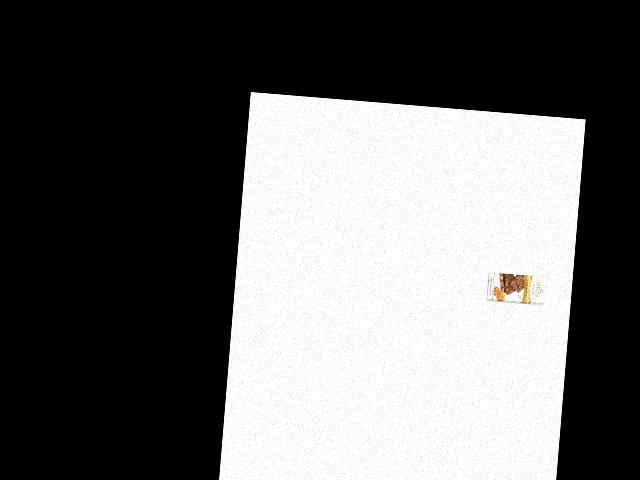chocolate: (484, 271, 549, 307)
